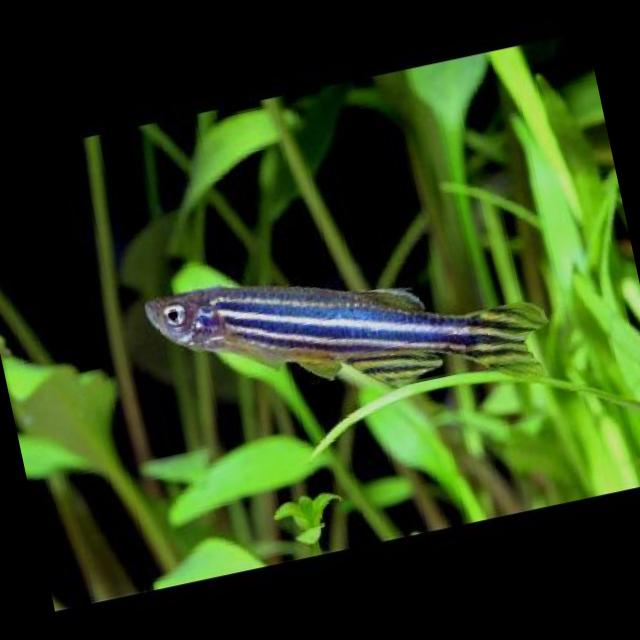ZebraFish: (142, 215, 561, 456)
